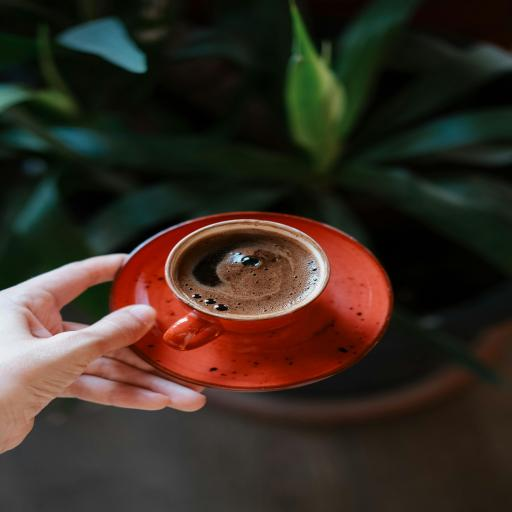cup: (161, 218, 331, 352)
